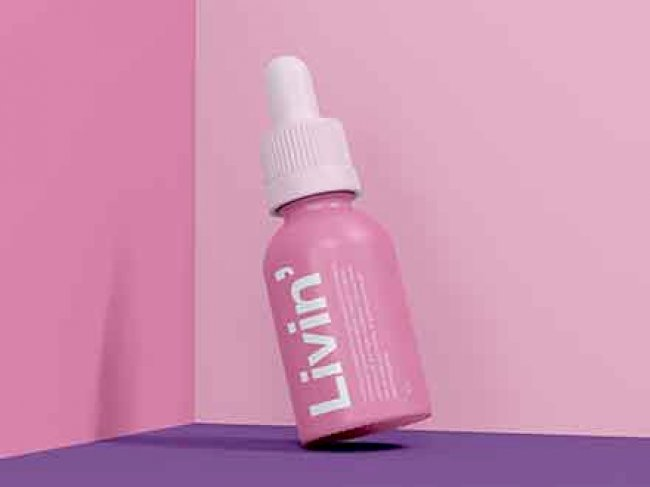Medicine: (250, 46, 440, 463)
